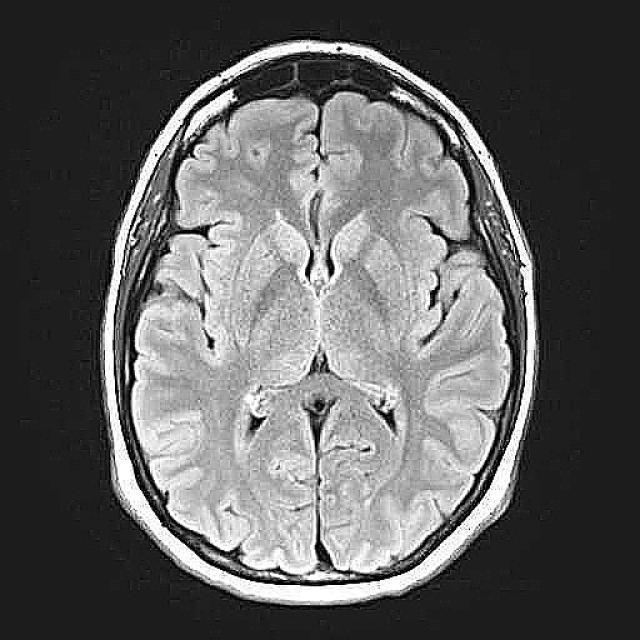notumor: (100, 40, 539, 610)
